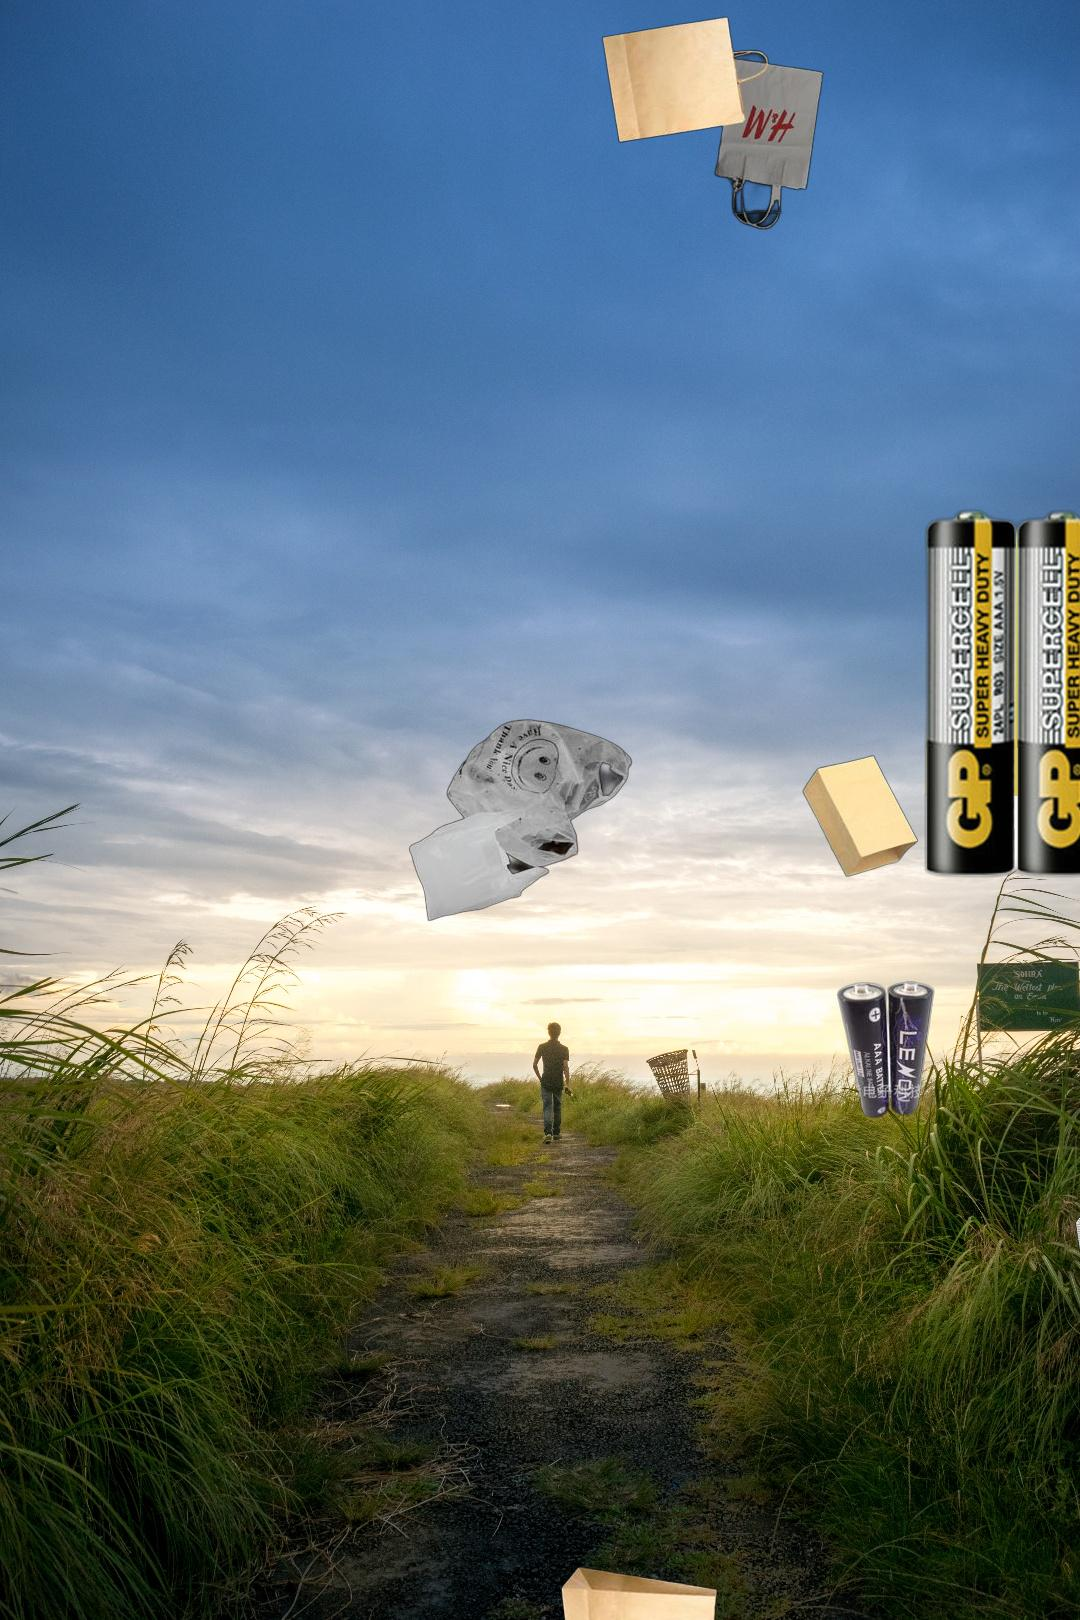battery: (918, 503, 1080, 884), (834, 979, 937, 1121)
paper-bag: (600, 14, 828, 231), (802, 753, 921, 880), (558, 1566, 755, 1620)
plastic-bag: (407, 718, 635, 925)
trash: (1073, 1163, 1080, 1349)
